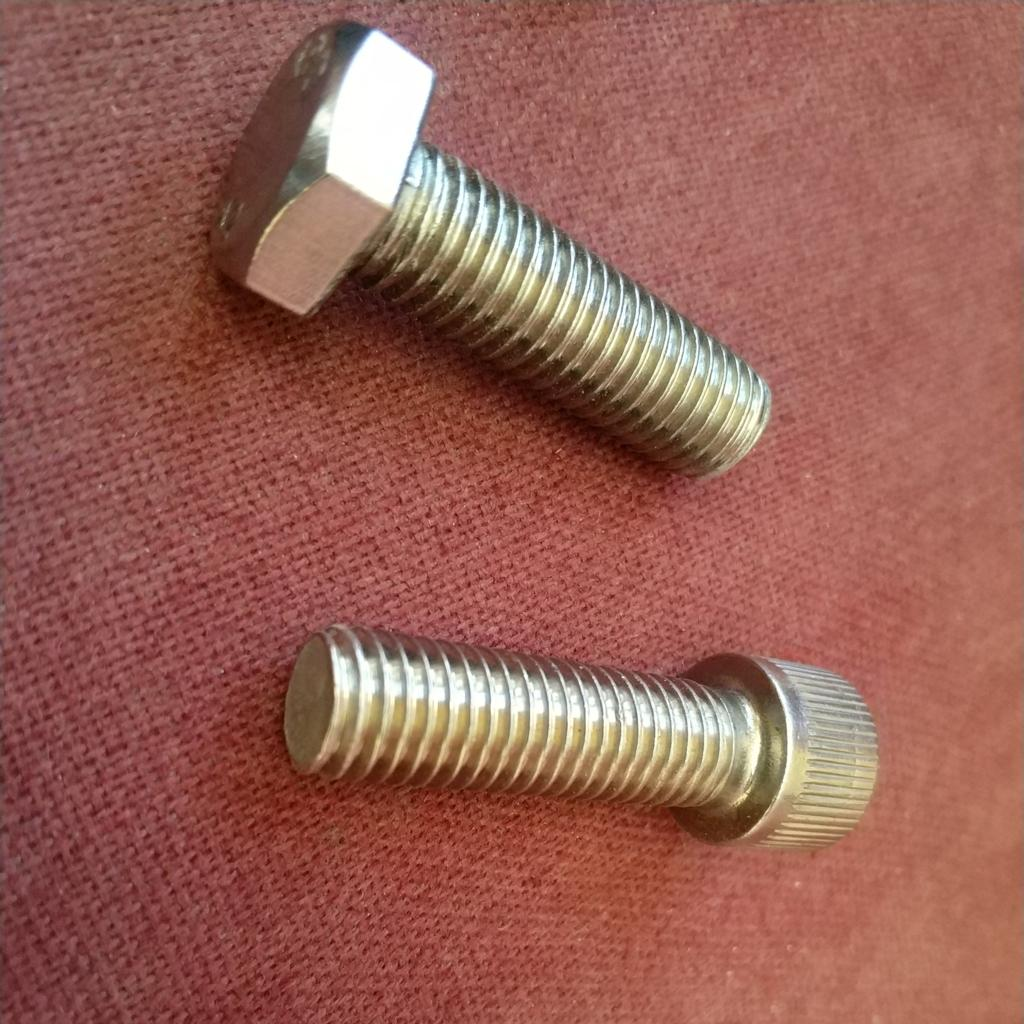screwtype1silver: (275, 620, 883, 862)
screwtype2silver: (194, 20, 771, 494)
